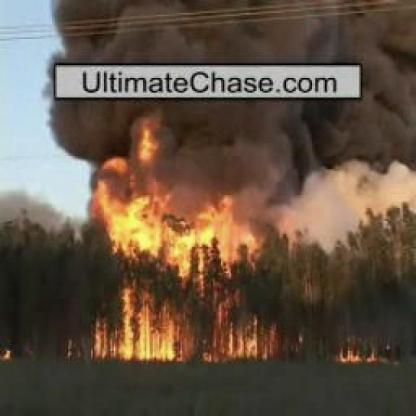fire: (86, 149, 290, 360), (335, 338, 383, 361)
